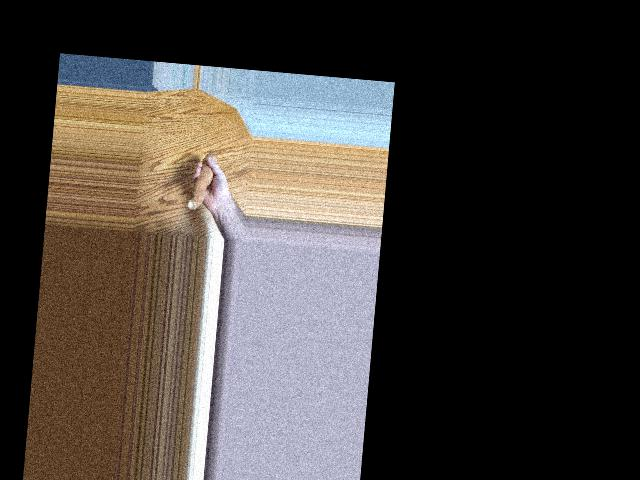sweet_potato: (187, 149, 216, 214)
